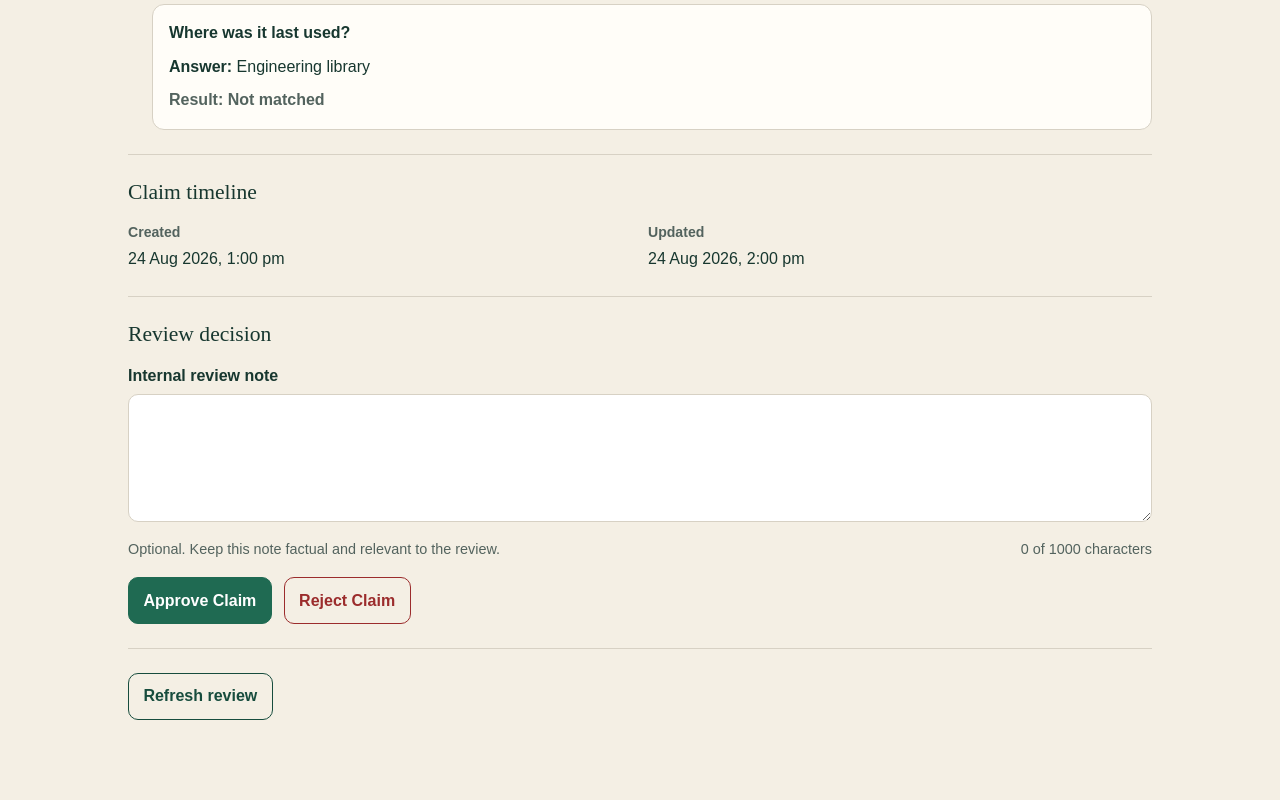
Test: StaffClaimDetailClient loading and refresh › keeps safe detail visible when refresh fails and can retry
(page scrolled)
Click the button "Refresh review": coordinates (200, 696) [128,673,273,720]
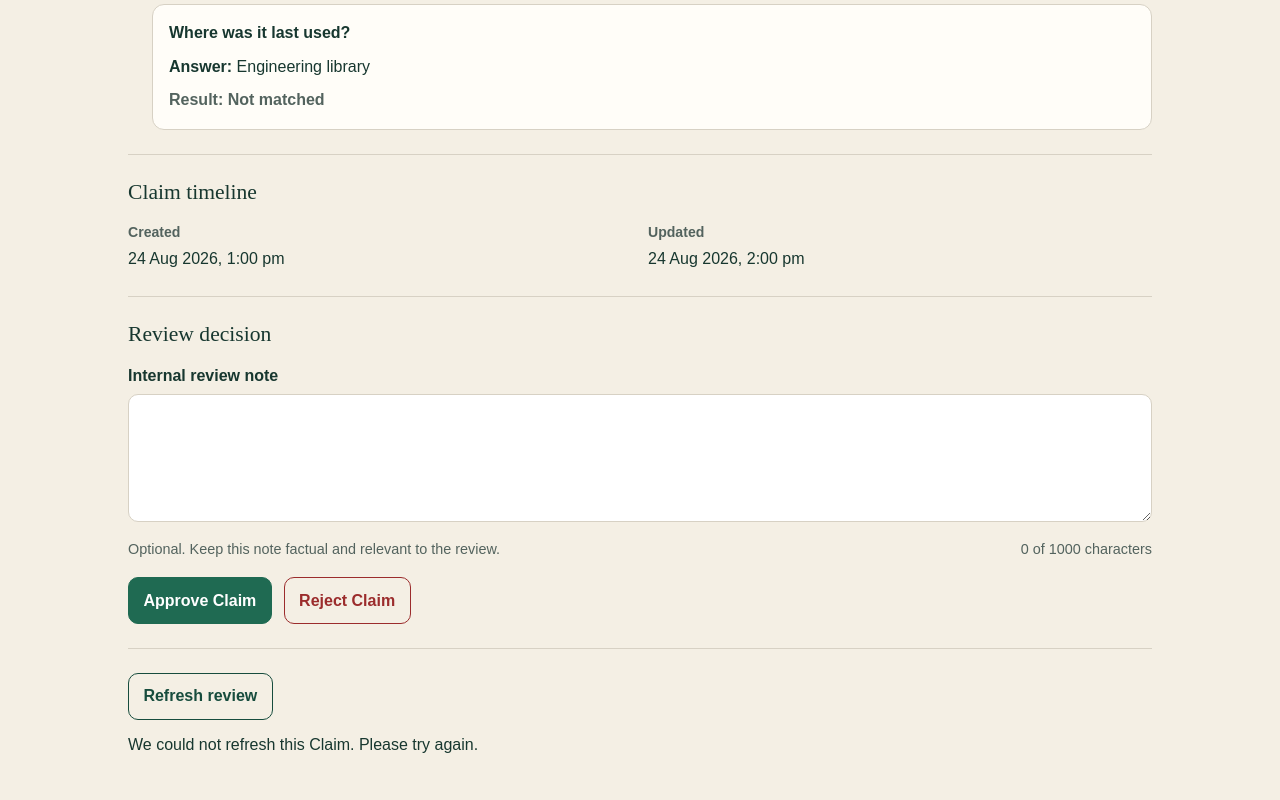
Expected: the message reads "We could not refresh this Claim. Please try again.", [128,736,478,753]
Click the button "Refresh review": coordinates (200, 696) [128,673,273,720]
(page scrolled)
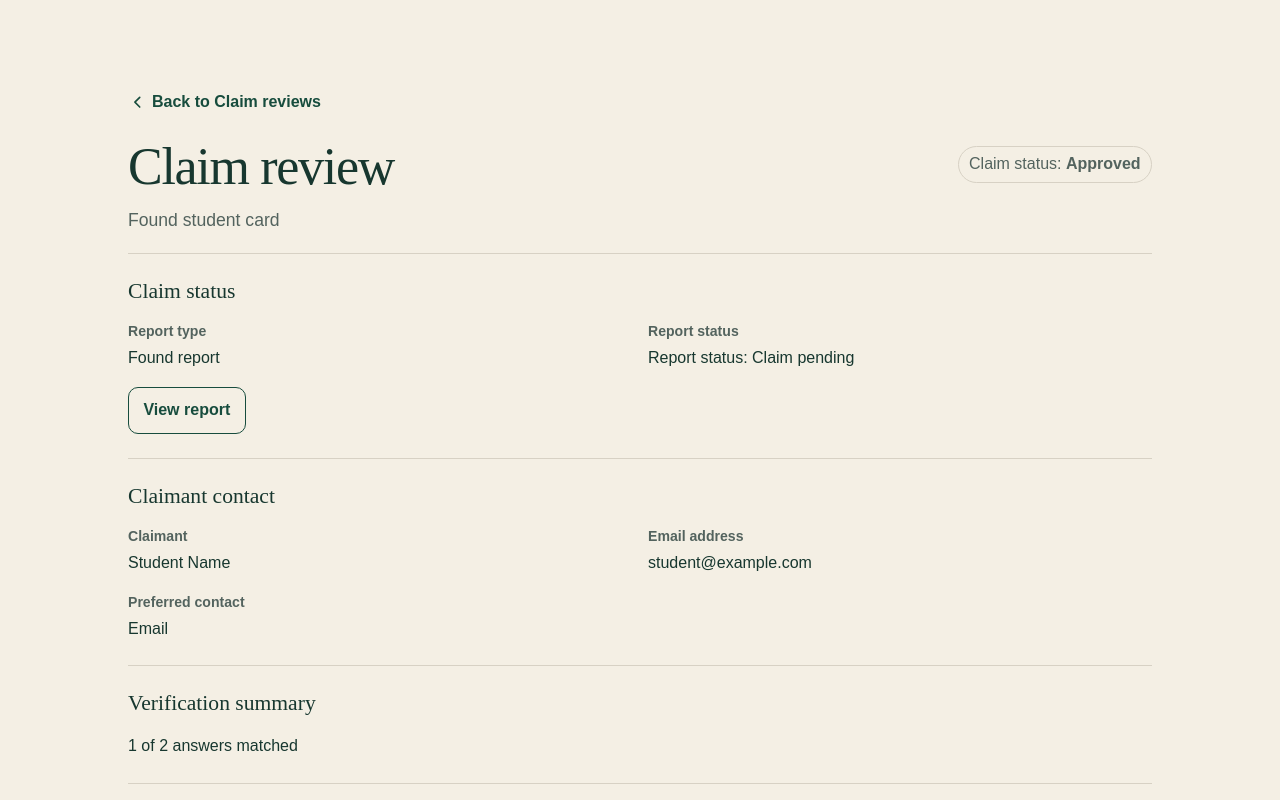
Expected: the text "Approved" is shown, [1066,155,1141,172]
